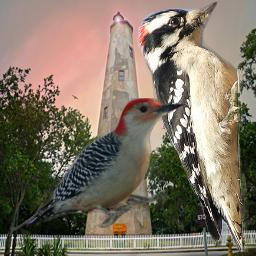Woodpecker: (137, 2, 249, 252), (26, 98, 187, 228)
